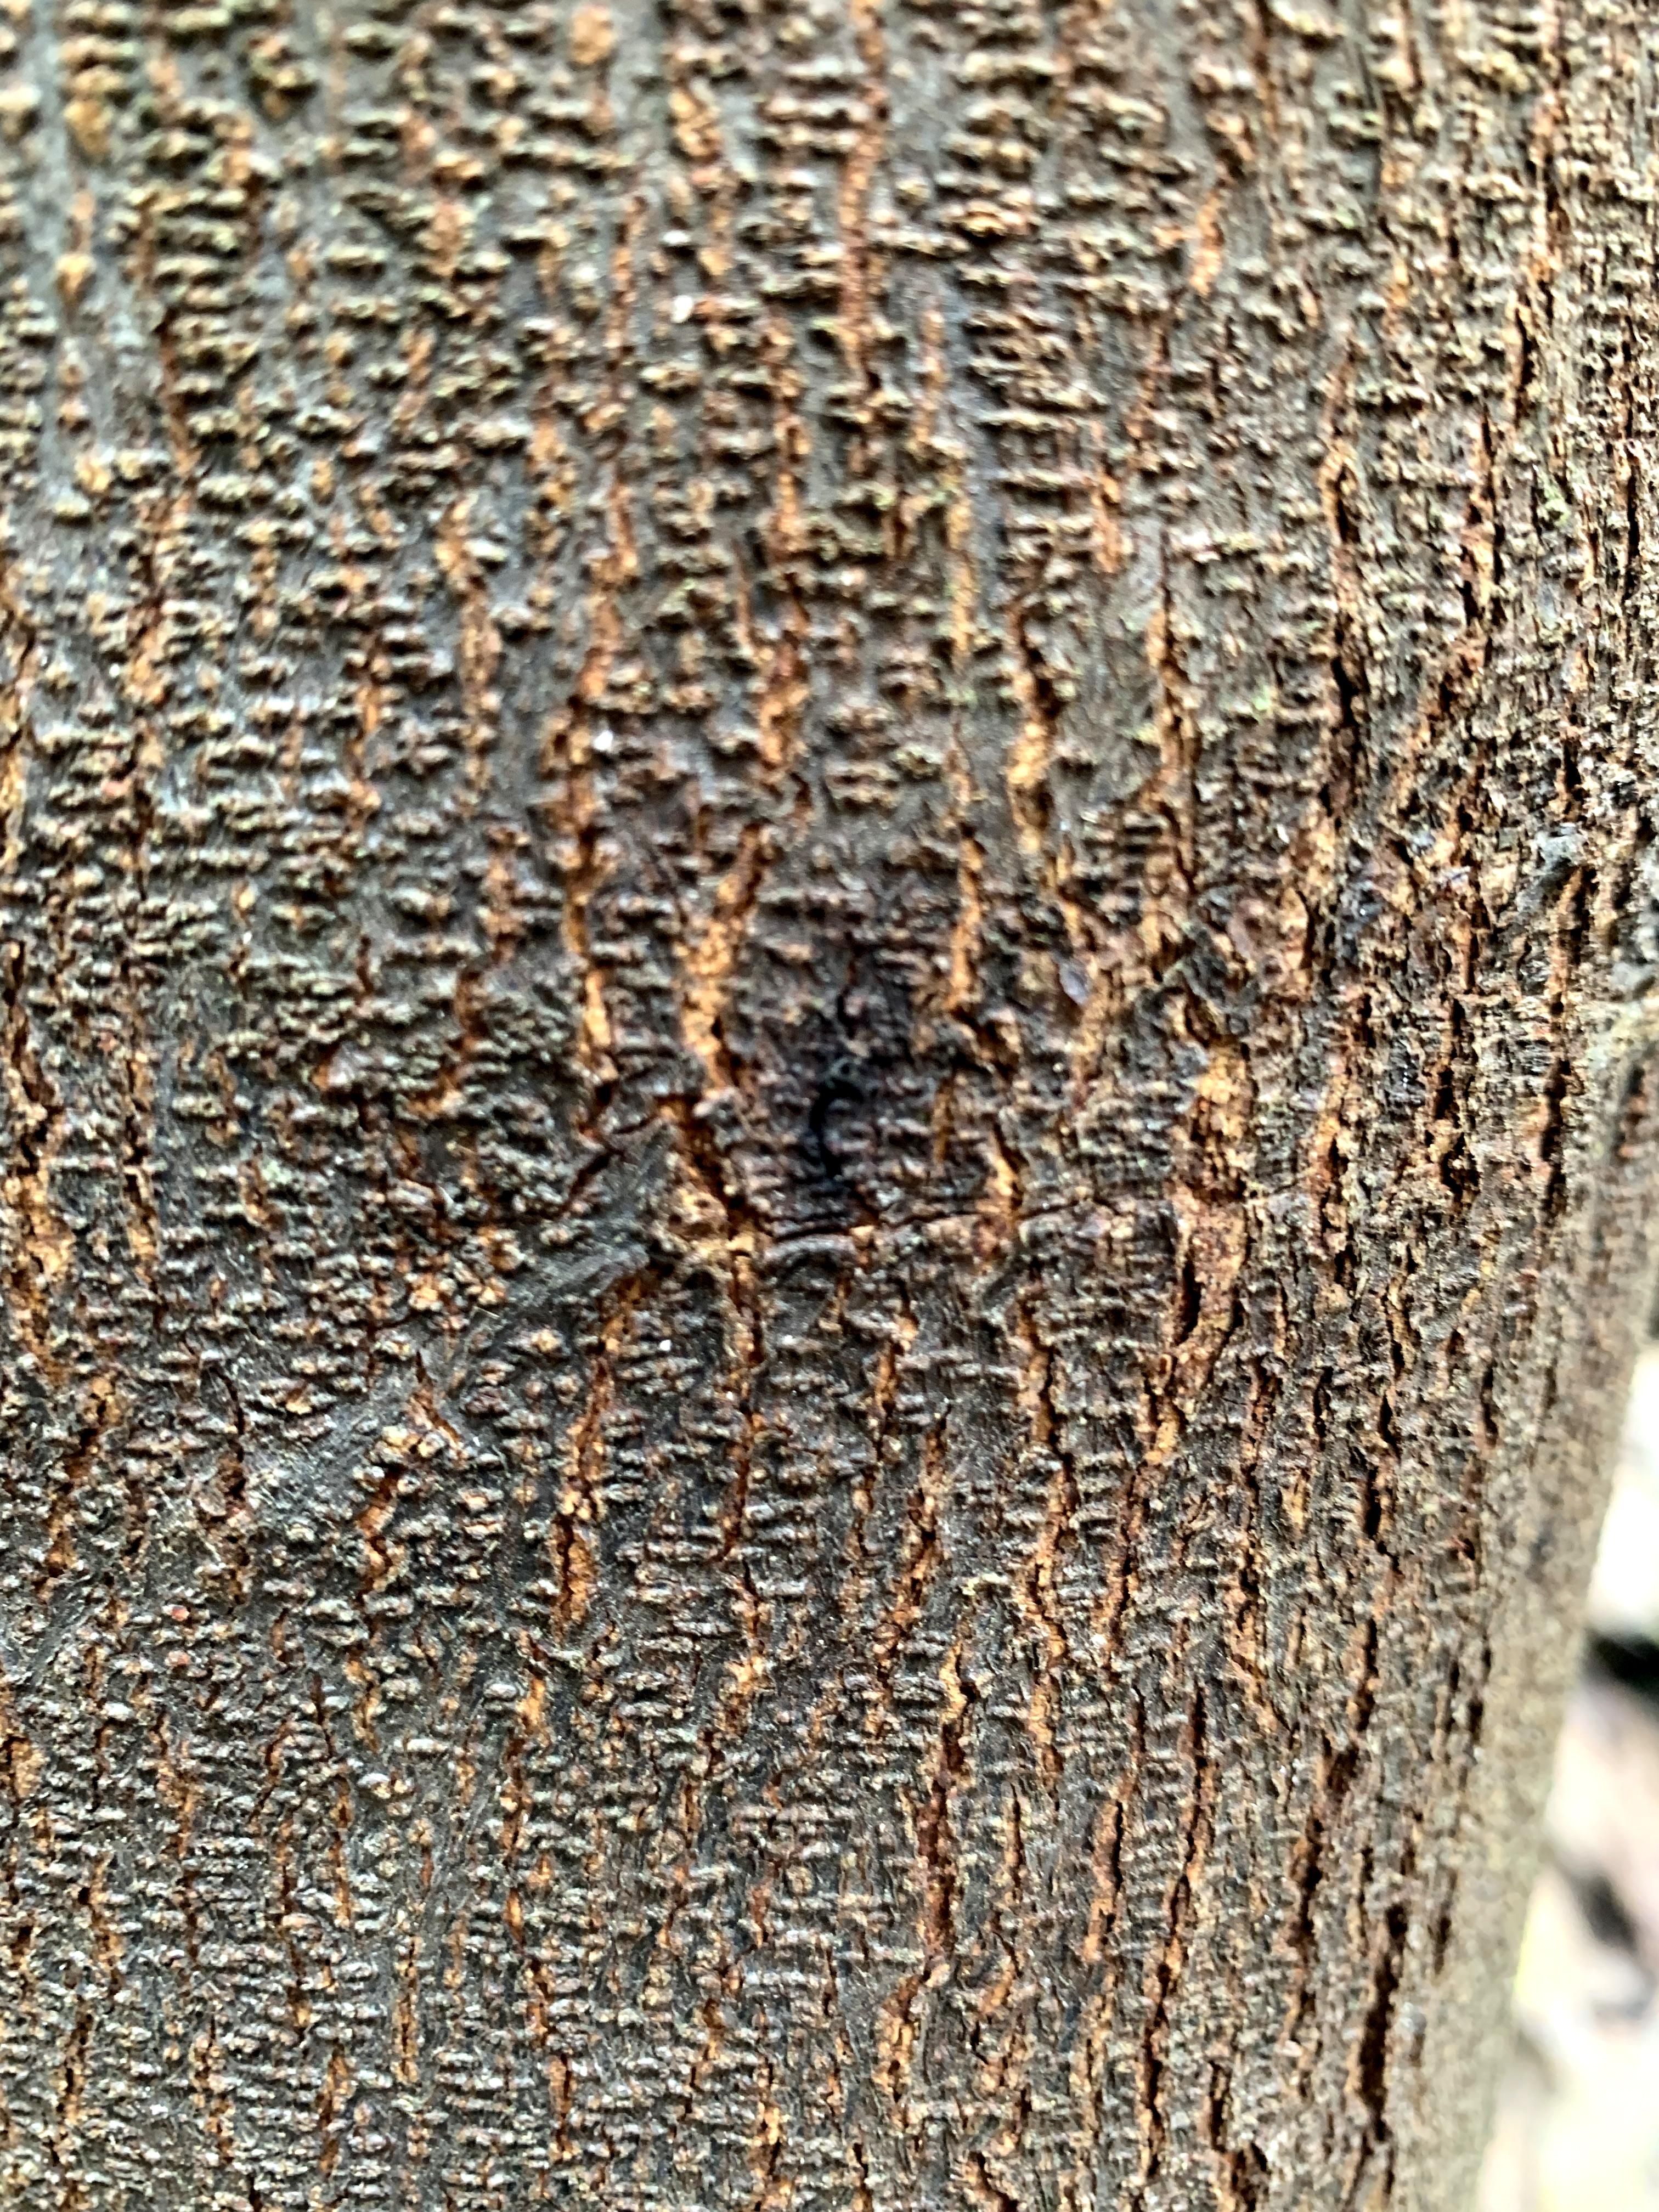Stem Borer: (723, 885, 978, 1312)
